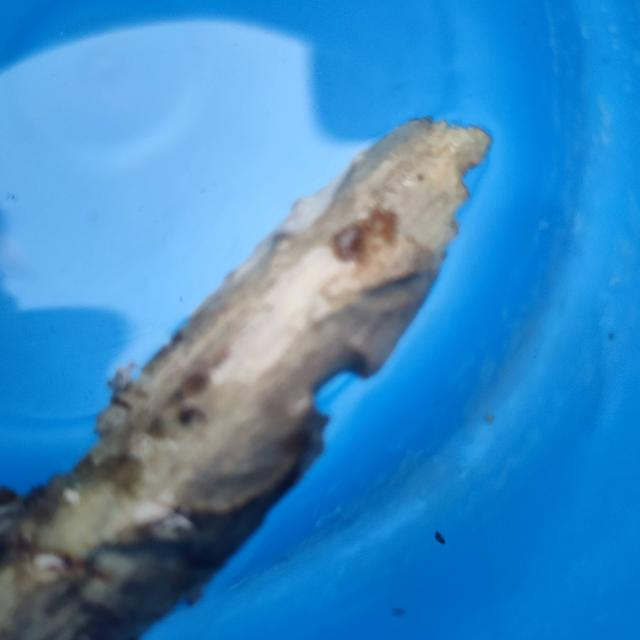wood: (0, 80, 497, 630)
